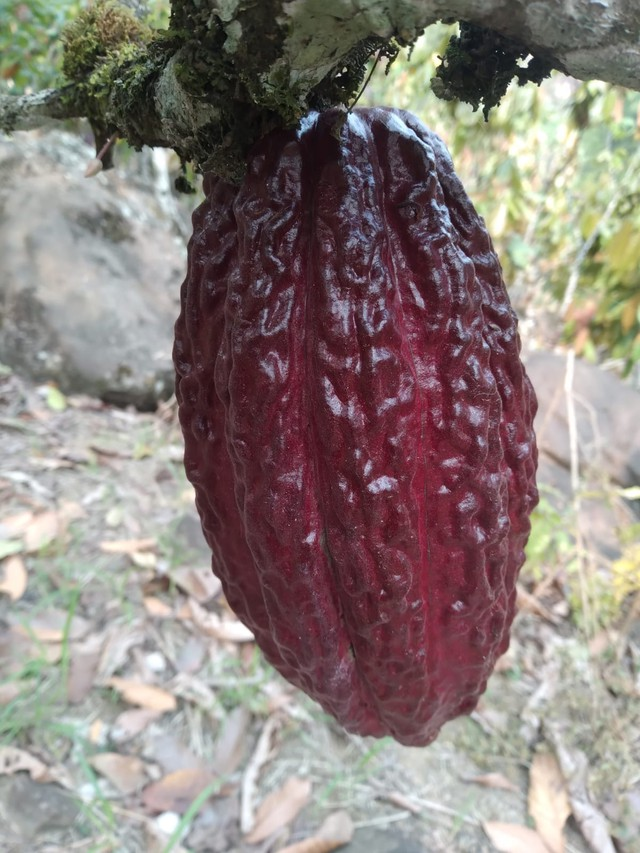Health: (169, 90, 557, 750)
